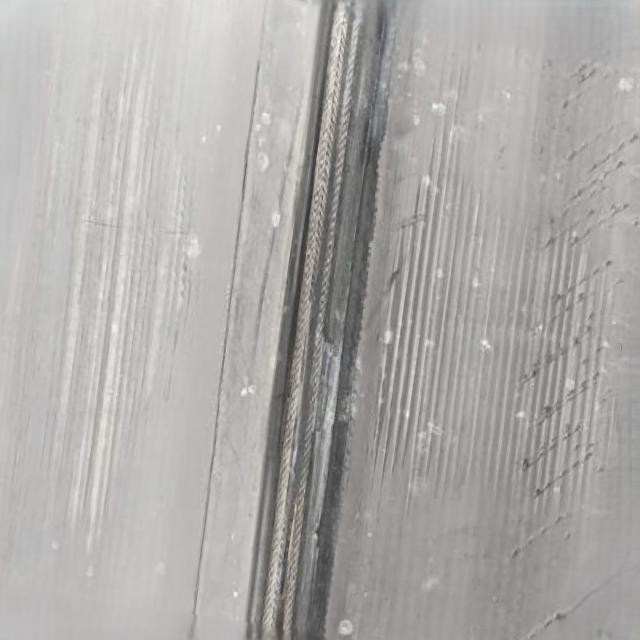Tear: (241, 0, 391, 640)
Wear: (365, 6, 613, 508), (35, 17, 197, 564)
